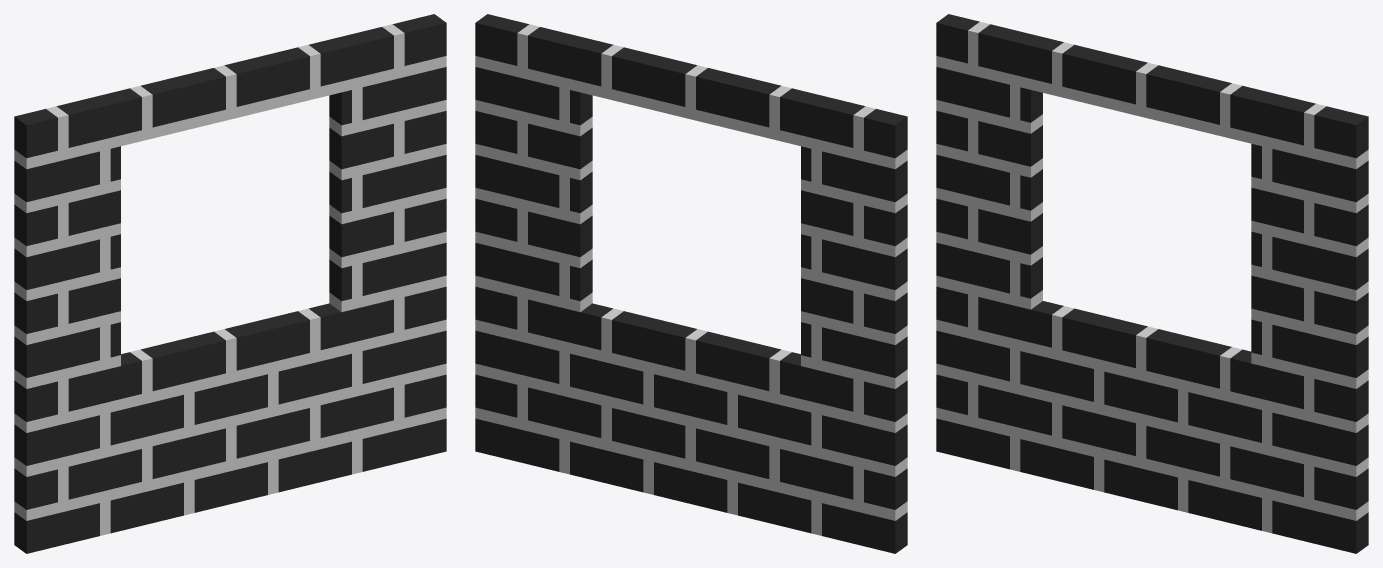
The model's file is ConstructionMaterials-34.obj.
3 renders of one model, left to right at view 1: azimuth 30°, elevation 25°; view 2: azimuth 150°, elevation 25°; view 3: azimuth 330°, elevation 25°, orthographic.
Bounding box in the file's own units: 4 × 3.9 × 0.2.
1 material, 1 textured.
